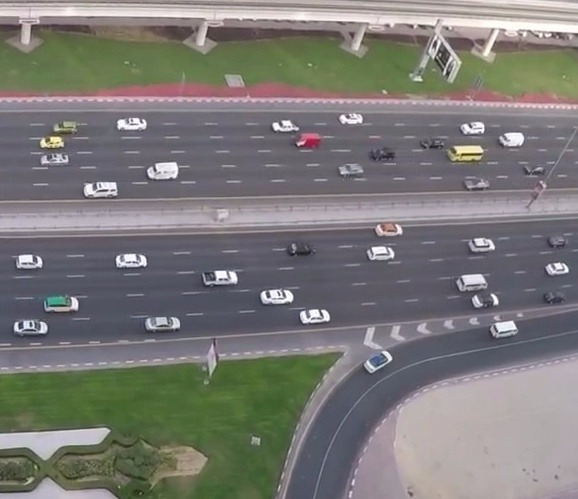V: (138, 309, 189, 333), (353, 347, 396, 374), (450, 269, 498, 293), (198, 264, 242, 289), (448, 142, 491, 167), (12, 316, 58, 337), (113, 250, 154, 273), (142, 160, 181, 184), (282, 234, 318, 260), (256, 286, 298, 308), (81, 178, 121, 200), (13, 250, 52, 272), (43, 292, 82, 314), (374, 214, 408, 239), (468, 289, 506, 310), (461, 233, 496, 255), (364, 242, 398, 264), (455, 116, 490, 137), (297, 307, 335, 326), (335, 107, 367, 129), (36, 130, 69, 151), (334, 159, 367, 180), (264, 117, 302, 135), (293, 130, 324, 152), (498, 128, 529, 150), (111, 117, 150, 134), (488, 320, 522, 339), (415, 133, 450, 151), (541, 258, 571, 279), (370, 144, 400, 164), (519, 160, 549, 180), (541, 288, 571, 308), (49, 117, 82, 135), (458, 176, 494, 192), (39, 153, 74, 169), (542, 232, 568, 250)
